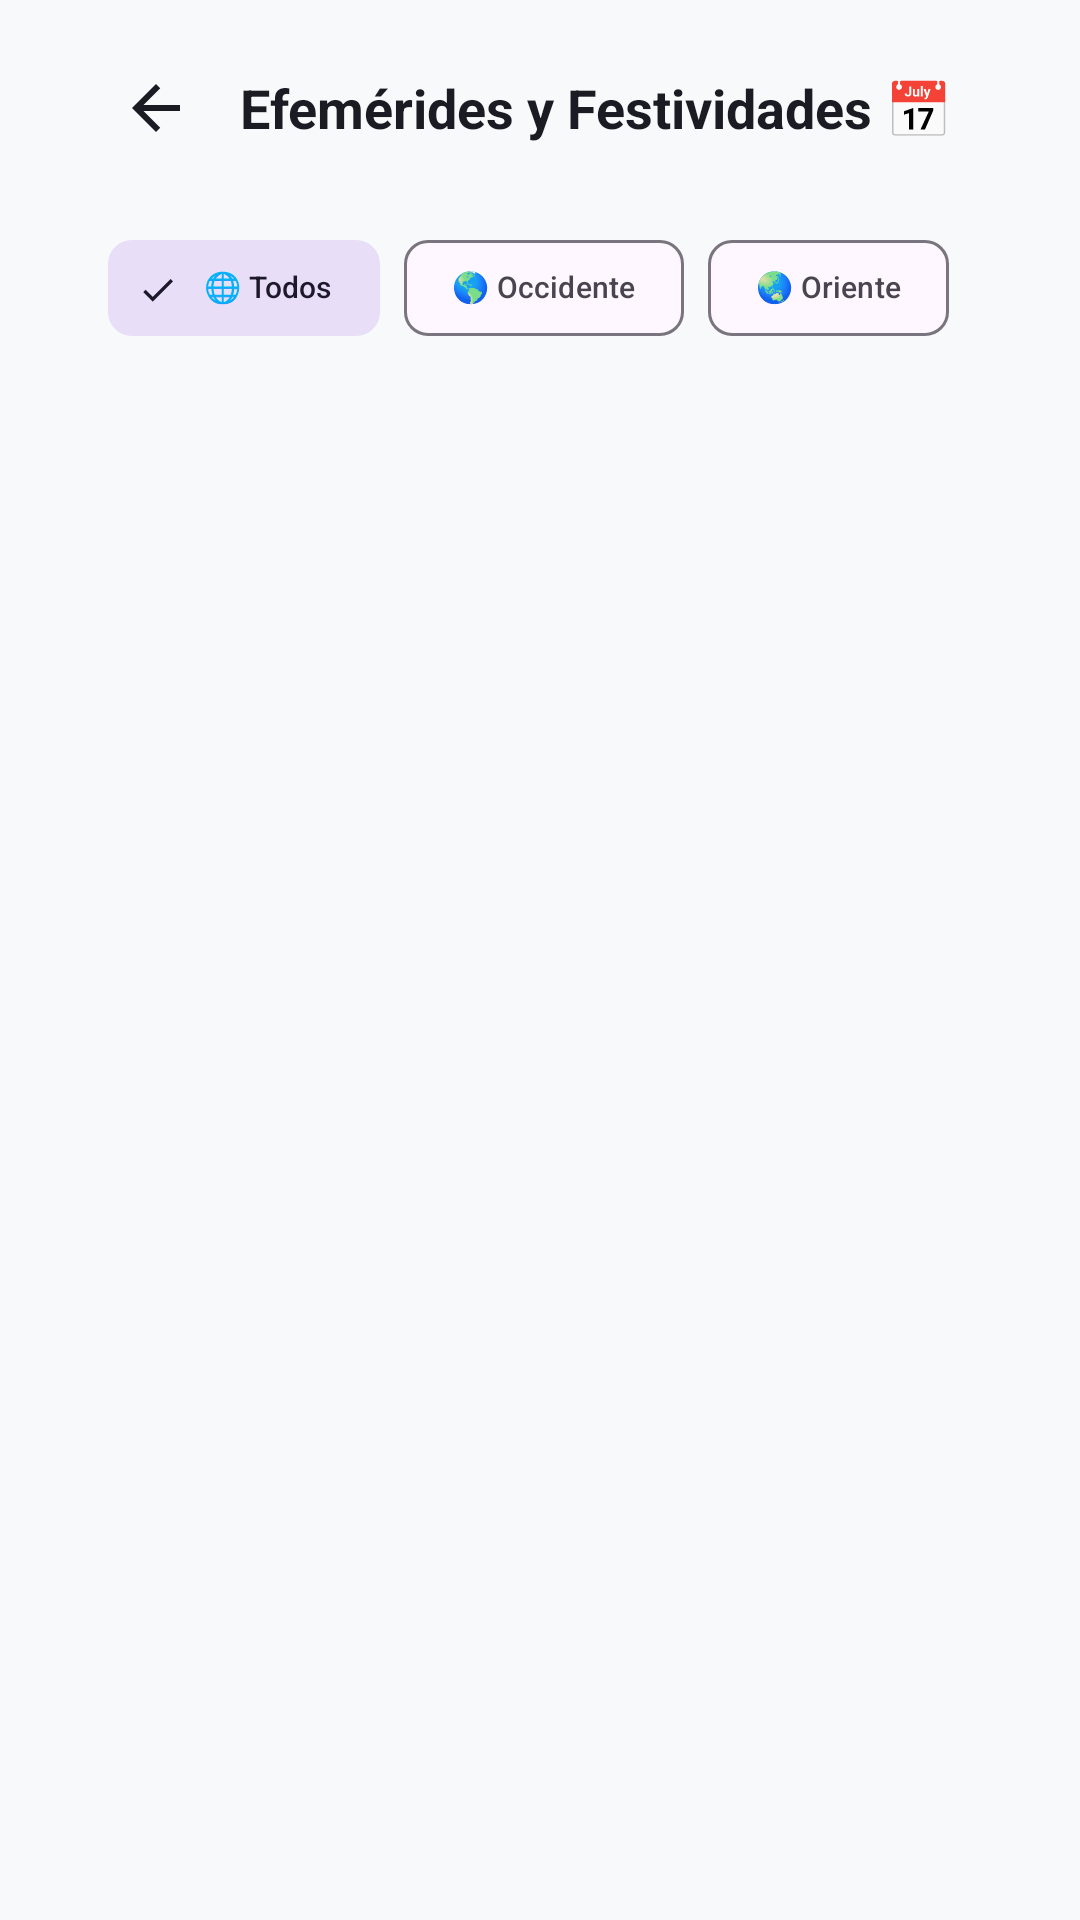

Named icons in this screenshot (1080 × 1920) and their bounding boxes, {"x1": x1, "y1": y1, "x2": x2, "y2": y2}:
Regresar: {"x1": 132, "y1": 84, "x2": 180, "y2": 132}
